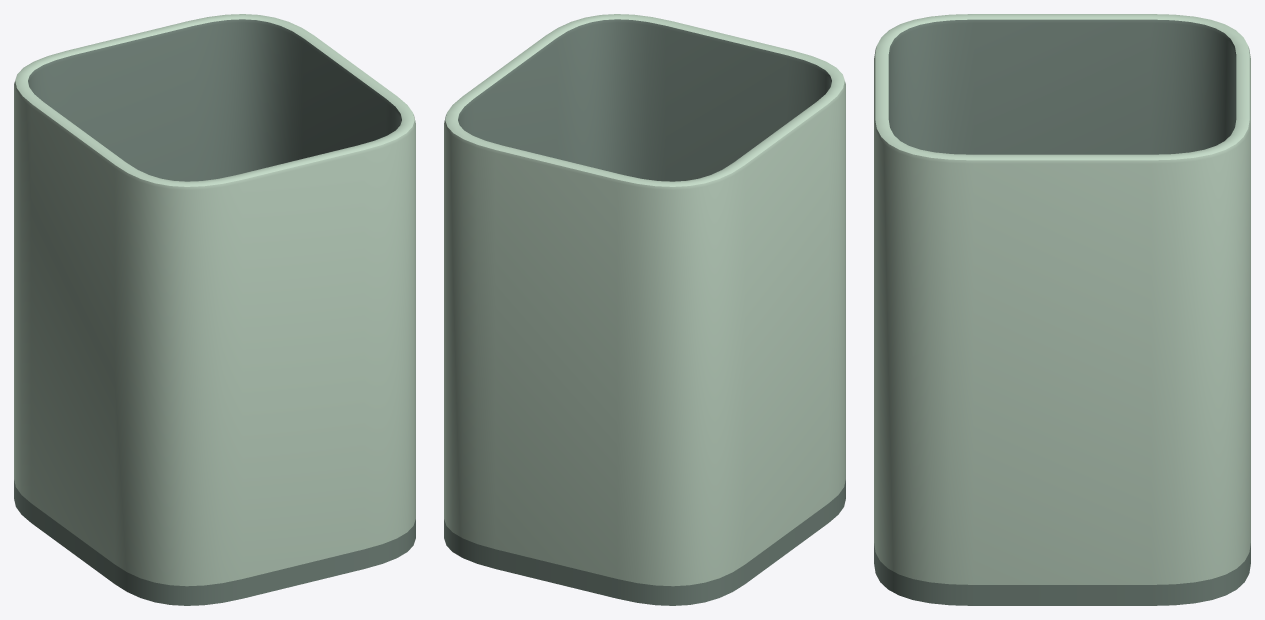
Rendered from Pencil holder.fbx.
3 views of the same model, side by side, from view 1: azimuth 30°, elevation 25°; view 2: azimuth 150°, elevation 25°; view 3: azimuth 270°, elevation 25° (orthographic). The views are drawn at different scales.
Visible parts, largest first — view 1: Pencil holder; view 2: Pencil holder; view 3: Pencil holder.
Part boxes in pixels (box(x1,y1,x2,y2)): Pencil holder: box(14, 14, 415, 605); Pencil holder: box(444, 14, 845, 605); Pencil holder: box(874, 14, 1250, 605).
Size of the model in its own units: 7.5 by 10.59 by 8.11.
Materials: 1 (1 with a texture image).
